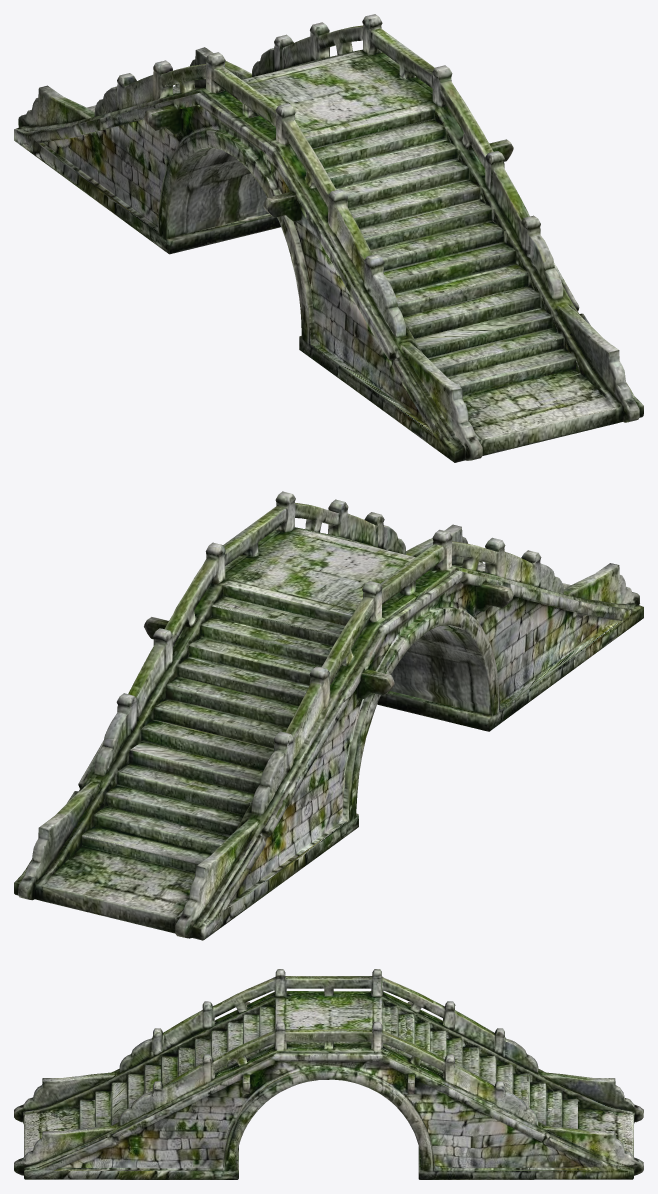
The model's file is bridge.glb.
The picture shows the model from 3 angles, top to bottom: view 1: azimuth 30°, elevation 25°; view 2: azimuth 150°, elevation 25°; view 3: azimuth 270°, elevation 25°; orthographic projection. The views are drawn at different scales.
Parts seen in each view (by area): view 1: bridge; view 2: bridge; view 3: bridge.
Part boxes in pixels (x1,y1,x2,y2): bridge: (14, 14, 643, 462); bridge: (14, 491, 643, 940); bridge: (14, 969, 643, 1179).
Size of the model in its own units: 0.3132 by 0.2644 by 1.
Materials: 1 (1 with a texture image).
